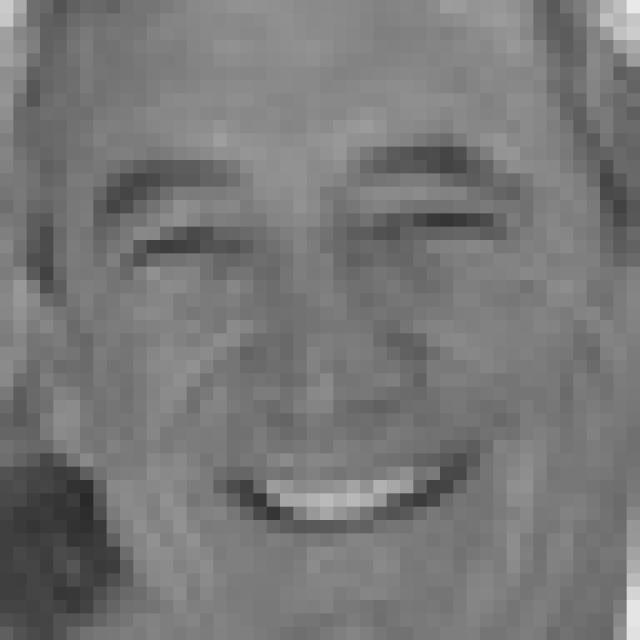happy: (94, 141, 546, 586)
